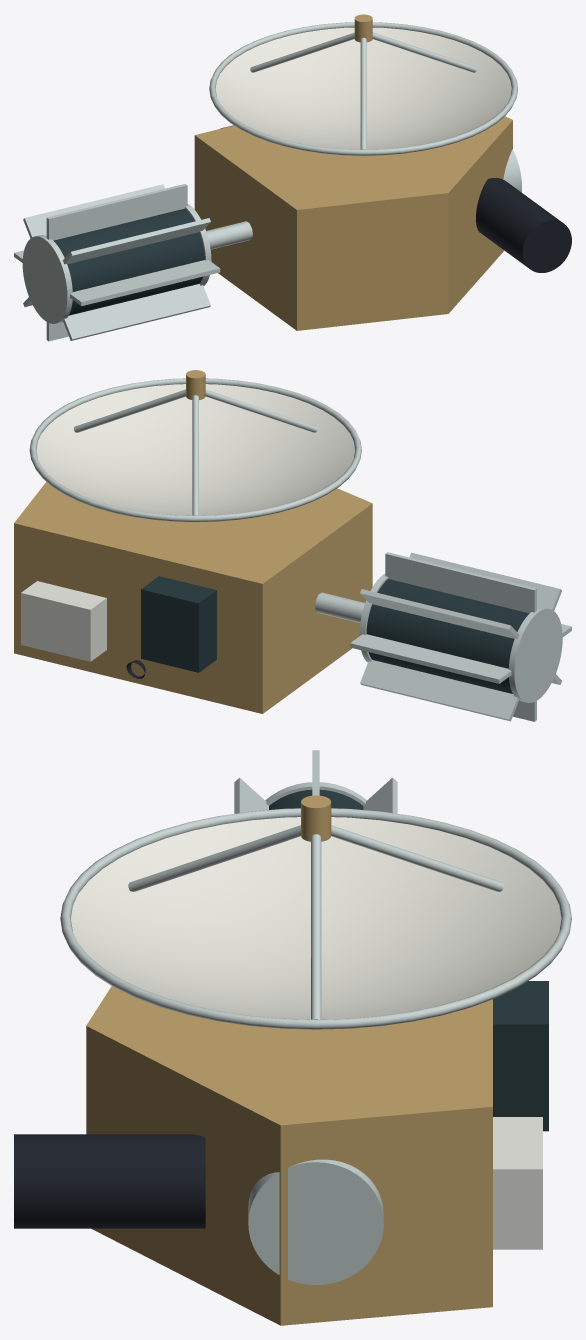
Rendered from new-horizons.glb.
The picture shows the model from 3 angles, top to bottom: view 1: azimuth 30°, elevation 25°; view 2: azimuth 150°, elevation 25°; view 3: azimuth 270°, elevation 25°; orthographic projection. The views are drawn at different scales.
Parts seen in each view (by area): view 1: body, reflector, service (×2), antenna, instruments; view 2: body, reflector, service (×2), instruments, antenna; view 3: body, reflector, instruments, antenna, service.
Boxes of the visible parts, x1=… form: body: x1=194, y1=116, x2=512, y2=330; reflector: x1=215, y1=27, x2=511, y2=149; service (×2): x1=14, y1=184, x2=252, y2=341; antenna: x1=209, y1=14, x2=517, y2=155; instruments: x1=220, y1=125, x2=571, y2=272; body: x1=14, y1=482, x2=372, y2=713; reflector: x1=36, y1=384, x2=354, y2=515; service (×2): x1=315, y1=552, x2=571, y2=721; instruments: x1=21, y1=576, x2=216, y2=672; antenna: x1=29, y1=370, x2=361, y2=521; body: x1=86, y1=986, x2=492, y2=1325; reflector: x1=71, y1=817, x2=561, y2=1019; instruments: x1=14, y1=981, x2=548, y2=1284; antenna: x1=60, y1=795, x2=571, y2=1029; service: x1=234, y1=750, x2=397, y2=813.
Size of the model in its own units: 2.97 by 1.54 by 1.89.
